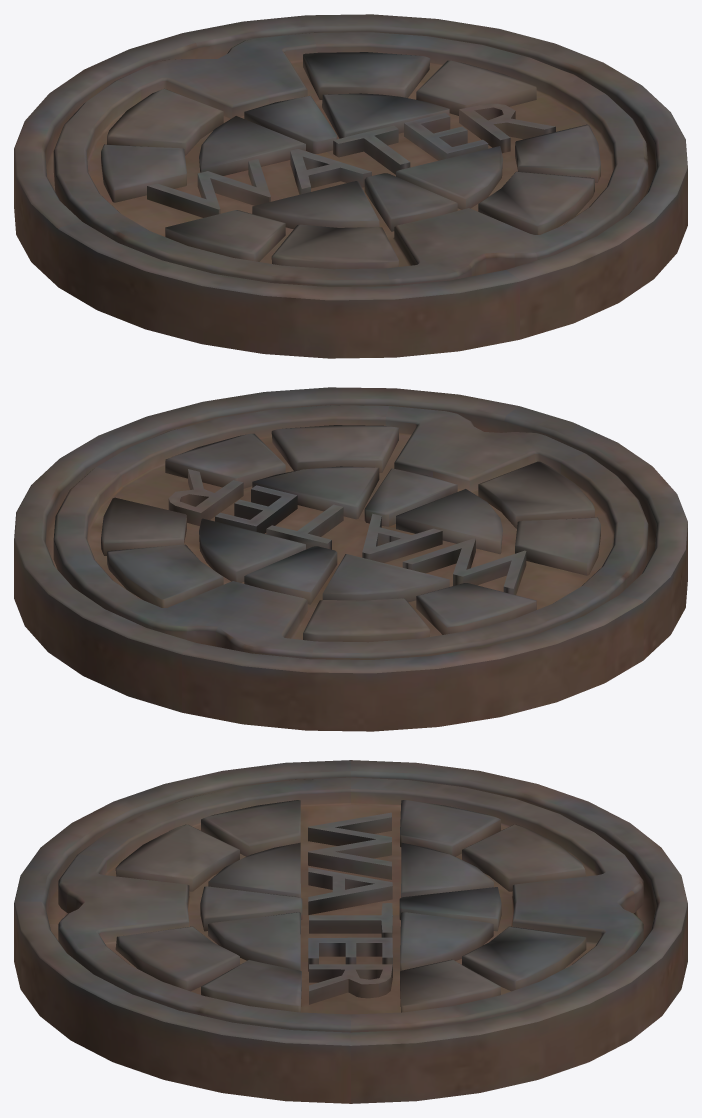
The model's file is water_manhole_cover.glb.
3 views of the same model, one above another, from view 1: azimuth 30°, elevation 25°; view 2: azimuth 150°, elevation 25°; view 3: azimuth 270°, elevation 25° (orthographic).
Parts seen in each view (by area): view 1: water_manhole_cover_frame; view 2: water_manhole_cover_frame; view 3: water_manhole_cover_frame.
Boxes of the visible parts, <box> form: water_manhole_cover_frame: <box>14,14,687,358</box>; water_manhole_cover_frame: <box>14,387,687,731</box>; water_manhole_cover_frame: <box>14,760,687,1103</box>.
Size of the model in its own units: 0.6908 by 0.0676 by 0.6908.
1 material, 1 textured.
